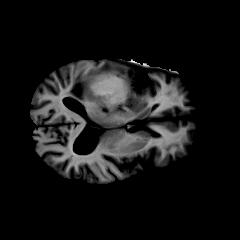glioma: (75, 72, 133, 111)
